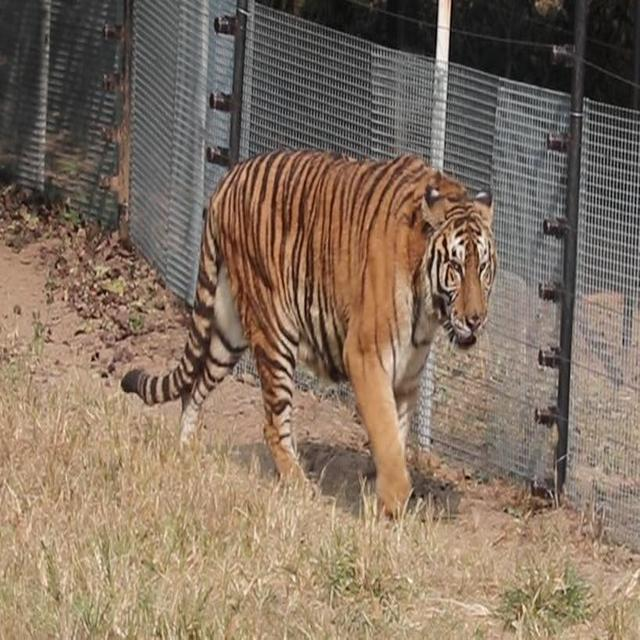tiger: (119, 145, 498, 523)
